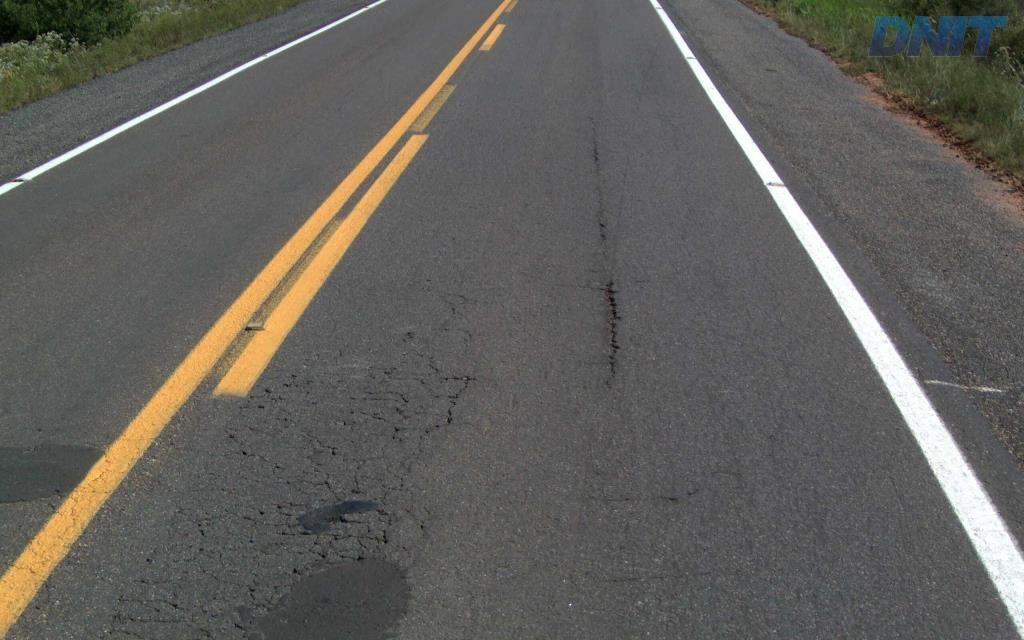crack: (313, 529, 389, 564), (597, 279, 621, 378)
